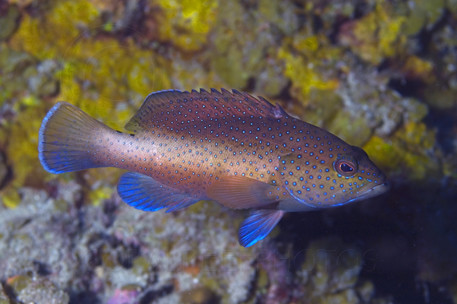Cephalopholis_fulvaw: (39, 73, 401, 237)
